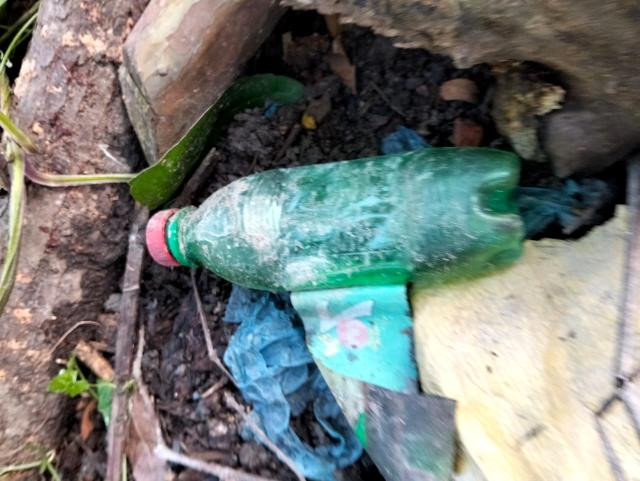bottle: (181, 153, 530, 289)
